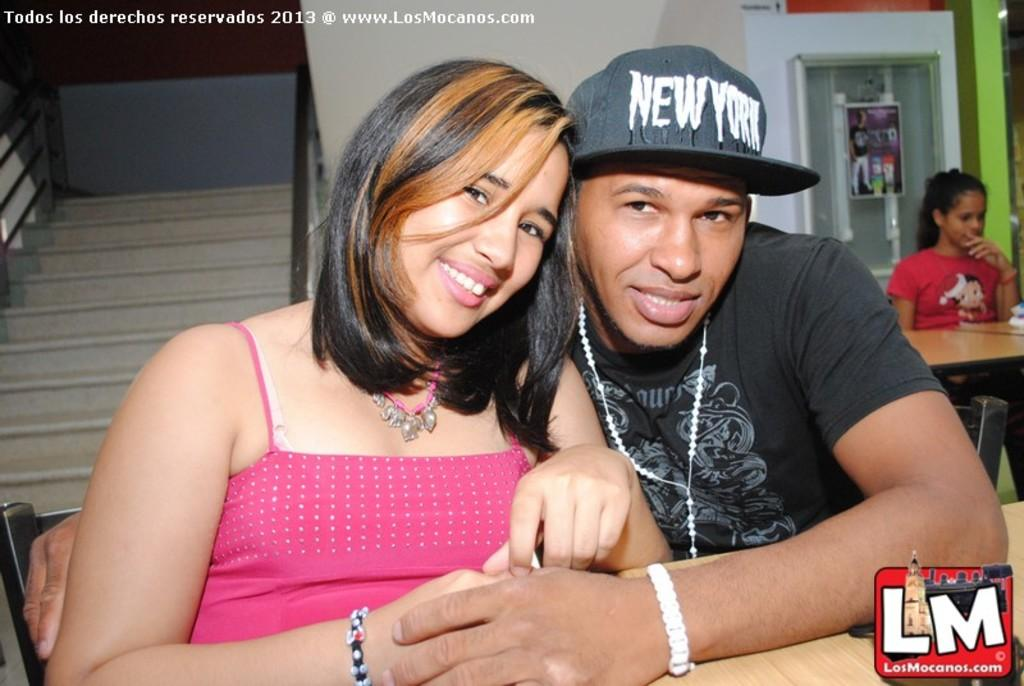Hat: (566, 40, 816, 204)
